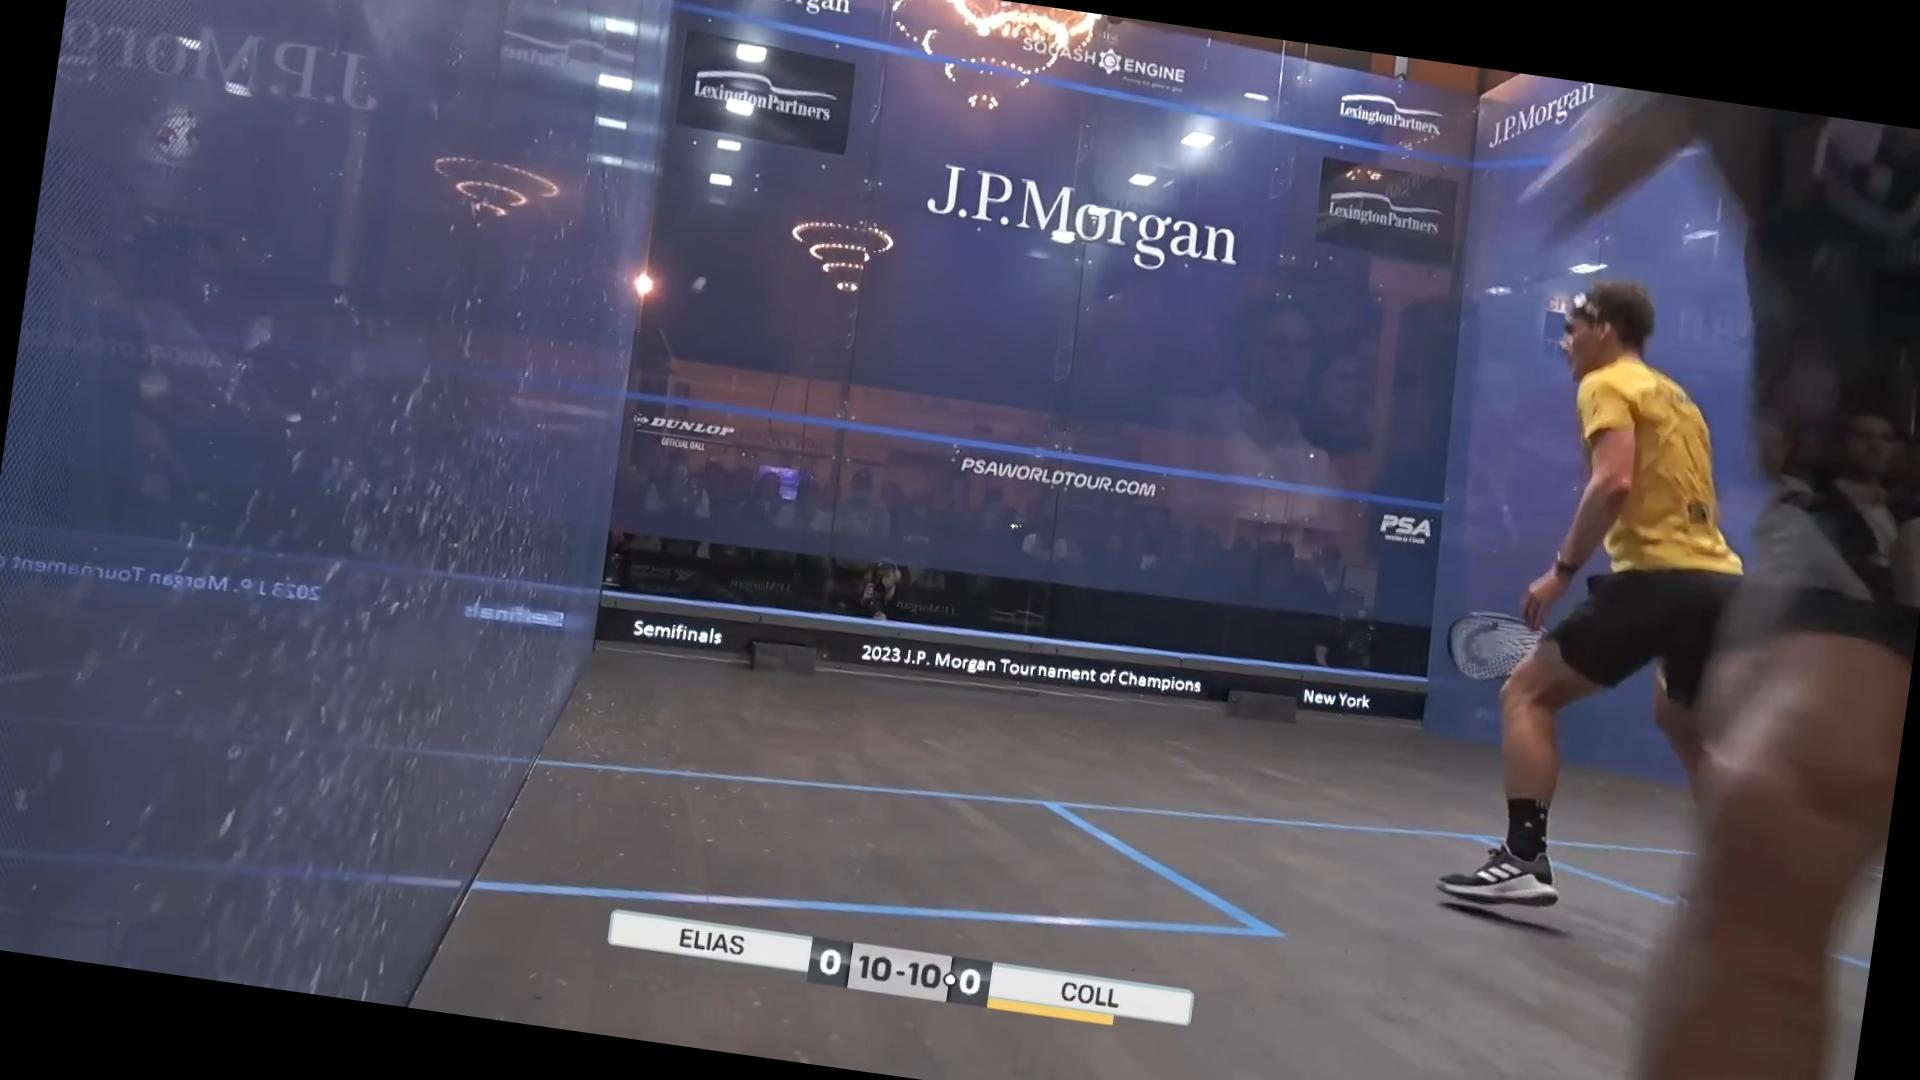Racket: (1440, 597, 1551, 694)
